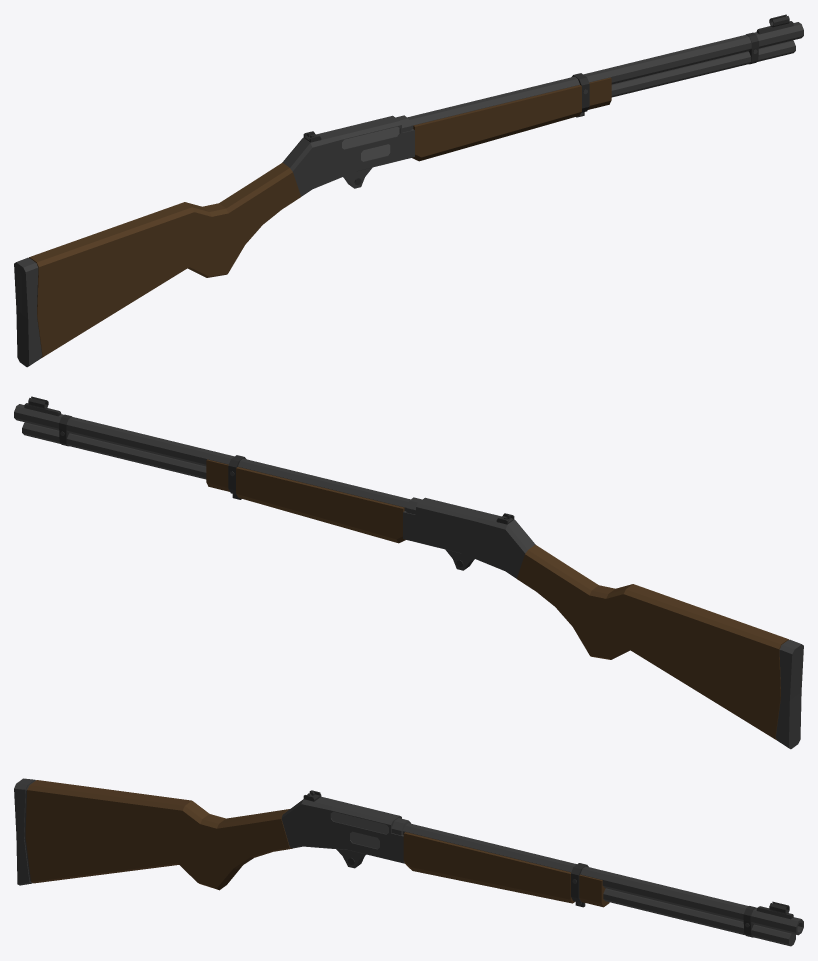
File: SniperRifle5_01.fbx
3 renders of one model, top to bottom at view 1: azimuth 30°, elevation 25°; view 2: azimuth 150°, elevation 25°; view 3: azimuth 330°, elevation 25°, orthographic.
Visible parts, largest first — view 1: SniperRifle5_01; view 2: SniperRifle5_01; view 3: SniperRifle5_01.
Boxes of the visible parts, left/top/right/bottom form: SniperRifle5_01: left=14, top=14, right=803, bottom=367; SniperRifle5_01: left=14, top=396, right=803, bottom=749; SniperRifle5_01: left=14, top=778, right=803, bottom=946.
Size of the model in its own units: 1.15 by 0.2304 by 0.03.
